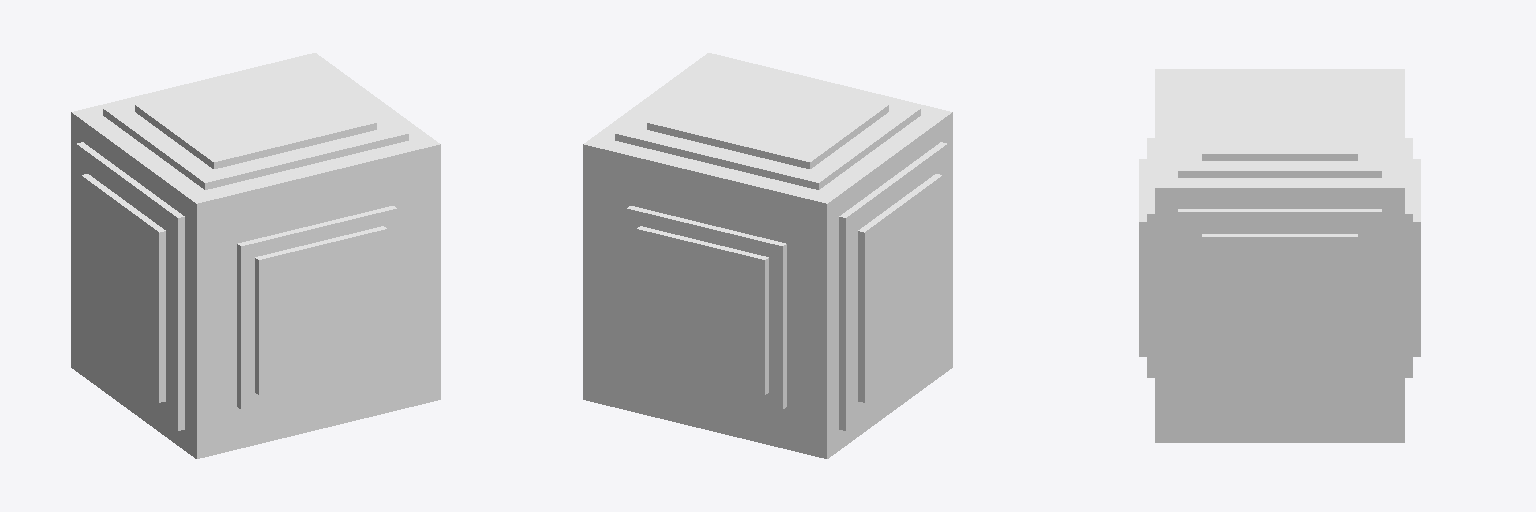
The model's file is bolaFuego.obj.
3 renders of one model, left to right at view 1: azimuth 30°, elevation 25°; view 2: azimuth 150°, elevation 25°; view 3: azimuth 270°, elevation 25°, orthographic.
Visible parts, largest first — view 1: object 1; view 2: object 1; view 3: object 1.
Part boxes in pixels (x1,y1,x2,y2): object 1: (71,53,440,458); object 1: (583,53,952,458); object 1: (1139,69,1420,442).
Size of the model in its own units: 4 by 4 by 3.6.